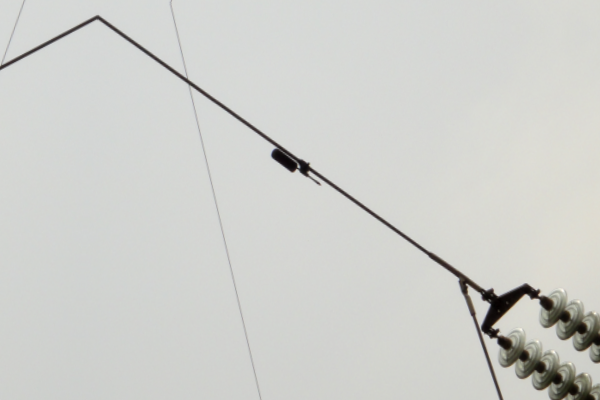damper_defect: (268, 145, 324, 187)
